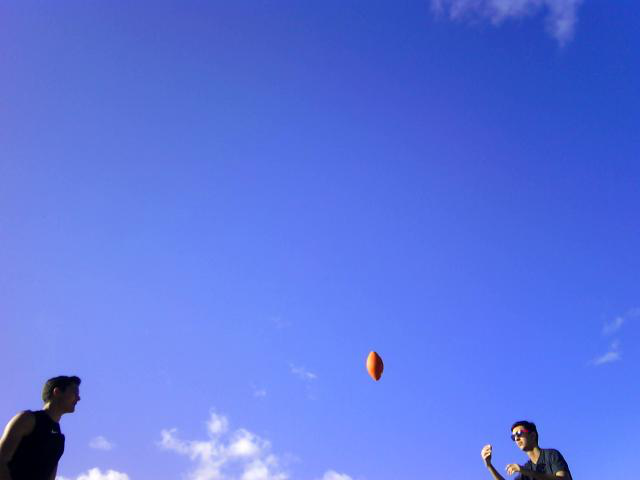football: (360, 345, 391, 385)
